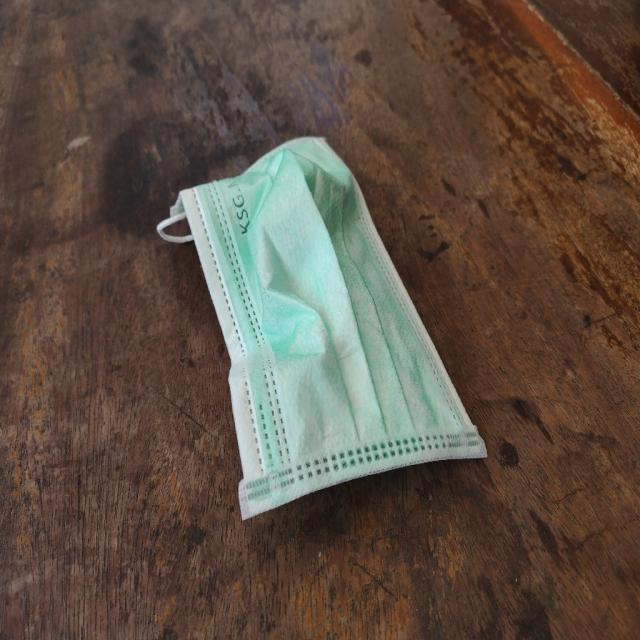face mask: (162, 139, 489, 520)
